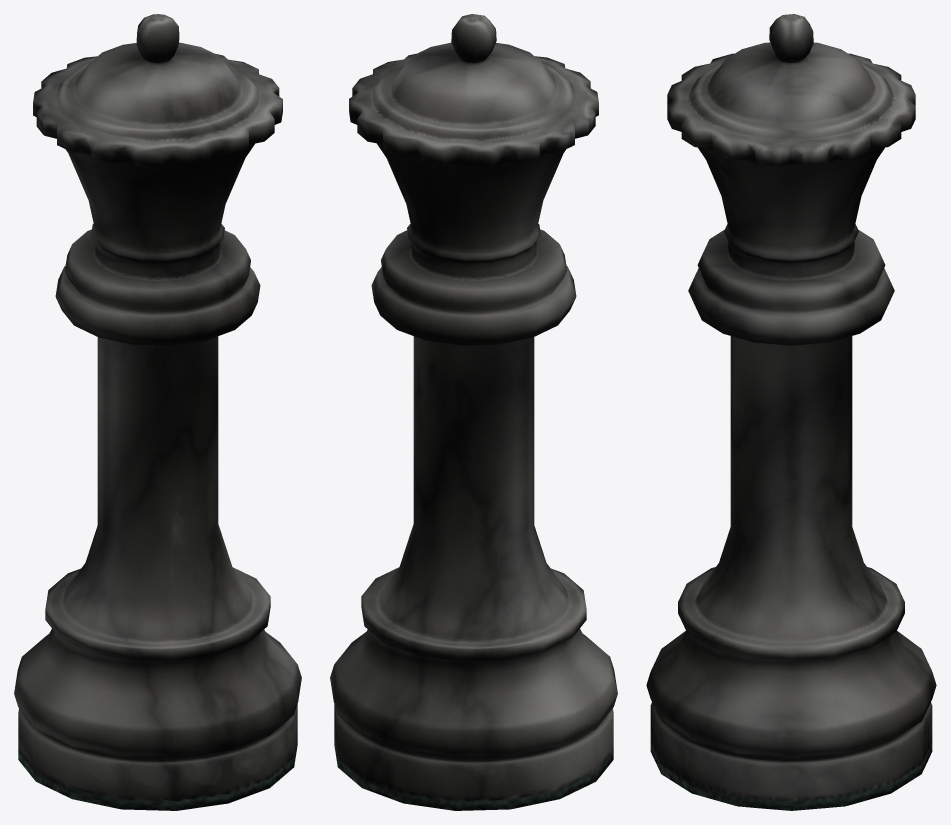
File: ChessPieces_Queen_Black.gltf
3 renders of one model, left to right at view 1: azimuth 30°, elevation 25°; view 2: azimuth 150°, elevation 25°; view 3: azimuth 270°, elevation 25°, orthographic.
Visible parts, largest first — view 1: ChessPieces_Queen_Black; view 2: ChessPieces_Queen_Black; view 3: ChessPieces_Queen_Black.
Part boxes in pixels (box(x1,y1,x2,y2)): ChessPieces_Queen_Black: box(14, 14, 301, 810); ChessPieces_Queen_Black: box(330, 14, 617, 810); ChessPieces_Queen_Black: box(646, 14, 936, 810).
Bounding box in the file's own units: 0.0304 × 0.085 × 0.0304.
Materials: 1 (1 with a texture image).
